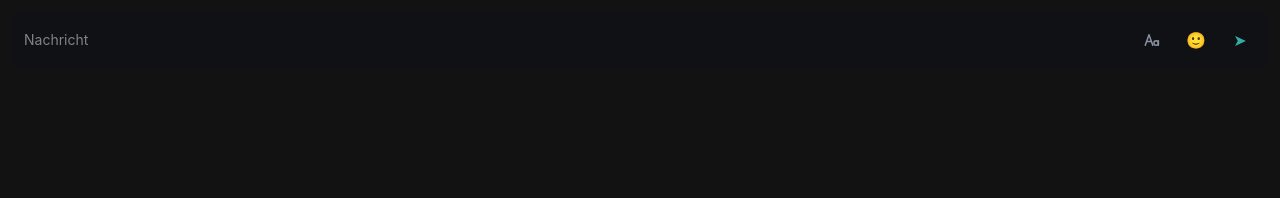
Test: Composer: application commands (APPLICATIONS.md §5.4) › binds the picked application command, offers its pick list and refuses an ambiguous name
In the dropdown labelled "Nachricht": (574, 40) [20, 20, 1128, 60], type "/wea"
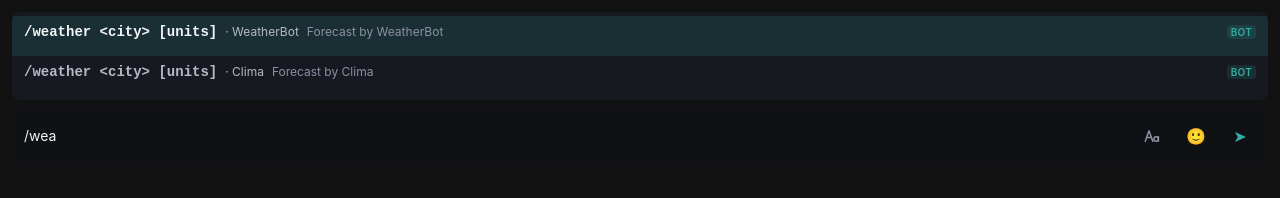
Result: the elements with test id "command-qualifier" read "· WeatherBot", "· Clima", in this order at [225, 24, 299, 40]; [225, 64, 264, 80]
Click the option with test id "command-option" that starts with "/weather <city> [units]": (121, 72) [24, 64, 1256, 80]
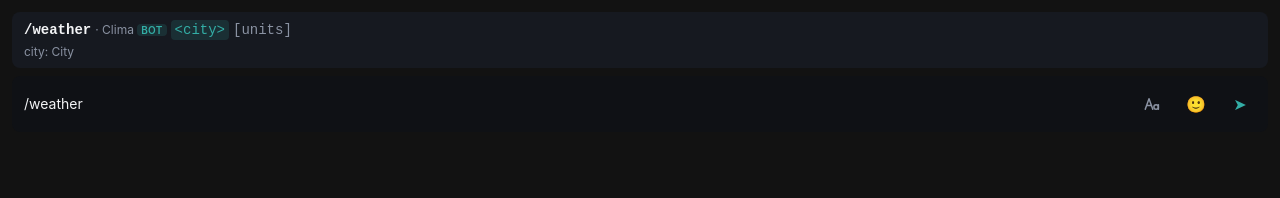
Result: the dropdown named "Nachricht" holds "/weather "
Result: the element with test id "command-hint-app" shows "Clima" at [102, 22, 134, 37]
In the dropdown named "Nachricht": (574, 104) [20, 84, 1128, 124], type "Rome "
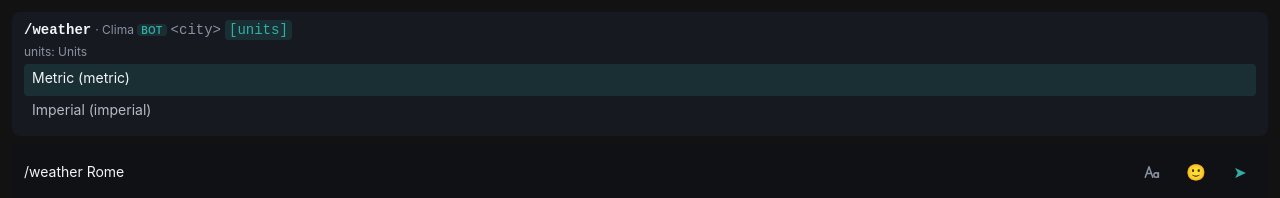
Result: the elements with test id "command-suggestion" read "Metric (metric)", "Imperial (imperial)", in this order
Click the option with test id "command-suggestion" showing "Imperial (imperial)": (92, 110) [32, 101, 151, 118]
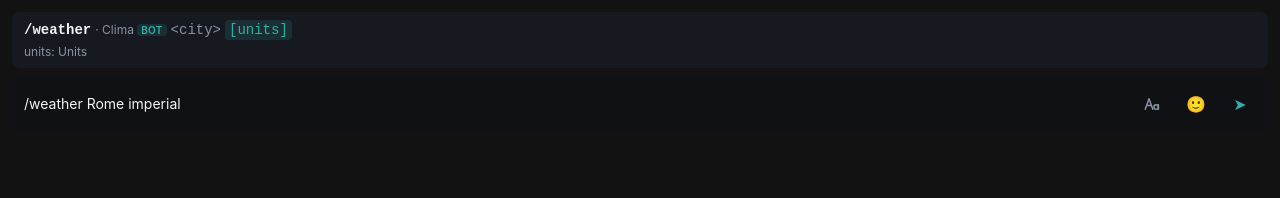
Result: the dropdown named "Nachricht" holds "/weather Rome imperial " at [20, 84, 1128, 124]
Press Enter
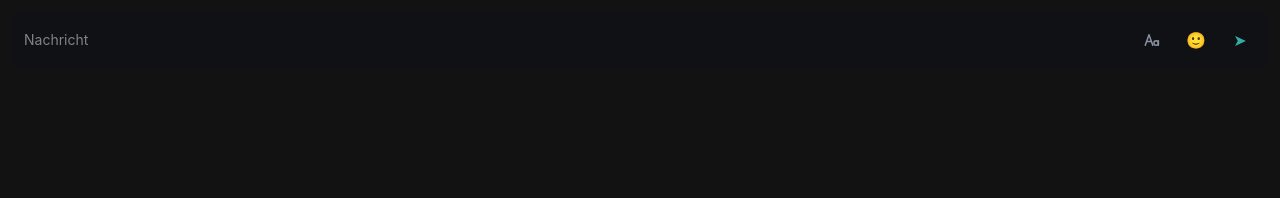
In the dropdown labelled "Nachricht": (574, 40) [20, 20, 1128, 60], type "/weather Oslo"
Then press Enter
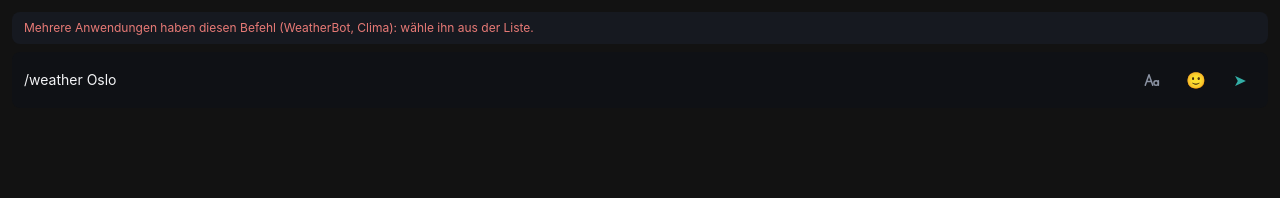
Result: the message with test id "command-error" shows "WeatherBot, Clima" at [24, 20, 534, 35]
